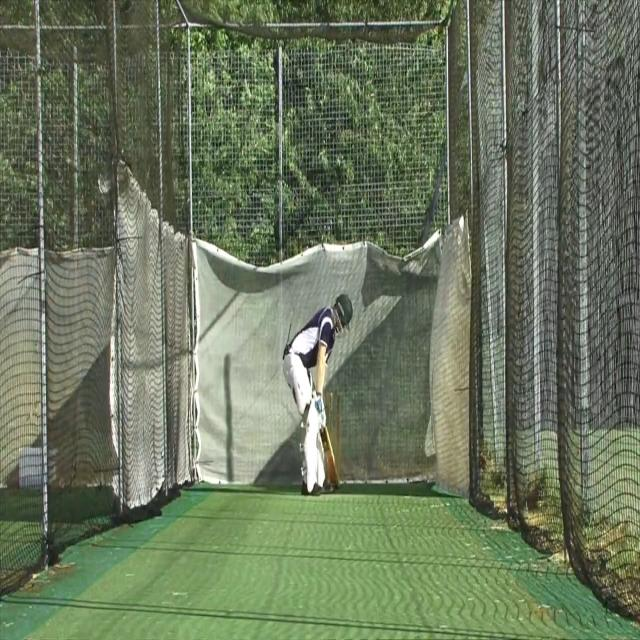batsman: (282, 292, 354, 498)
